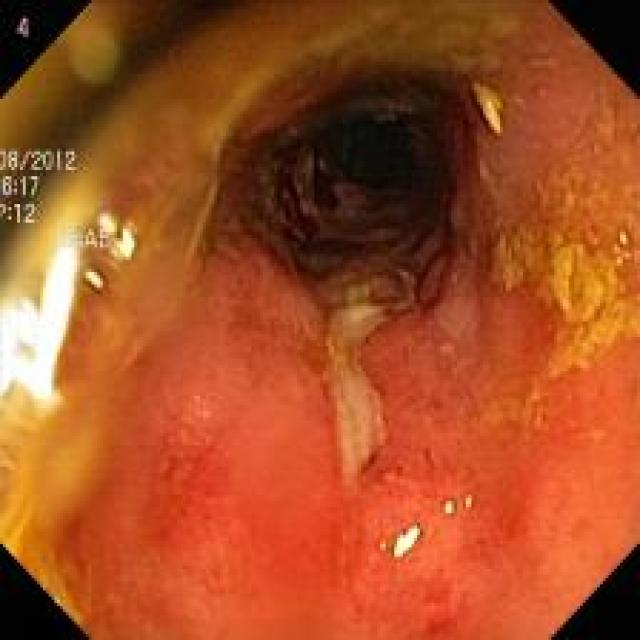ulcerative-colitis-grade-3: (64, 22, 639, 640)
